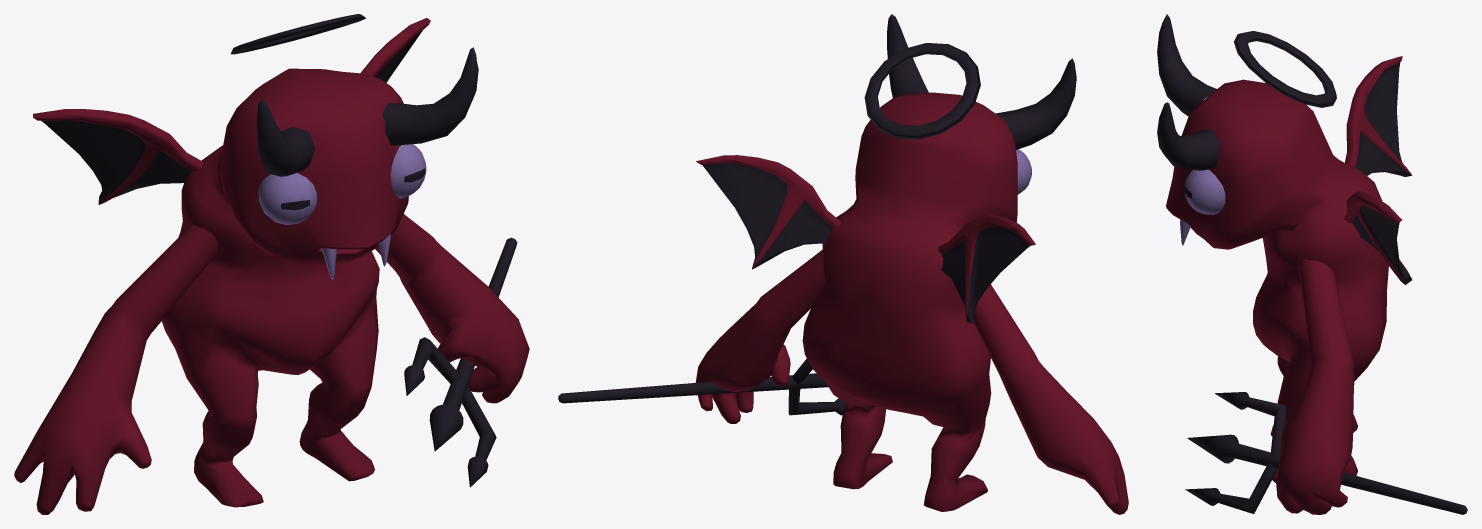
The model's file is enemy-kessin1.glb.
The picture shows the model from 3 angles, left to right: view 1: azimuth 30°, elevation 25°; view 2: azimuth 150°, elevation 25°; view 3: azimuth 270°, elevation 25°; orthographic projection. The views are drawn at different scales.
Parts seen in each view (by area): view 1: enemy:kessin1; view 2: enemy:kessin1; view 3: enemy:kessin1.
Part boxes in pixels (box(x1,y1,x2,y2)): enemy:kessin1: box(14, 14, 529, 514); enemy:kessin1: box(558, 14, 1128, 514); enemy:kessin1: box(1157, 14, 1467, 514).
Size of the model in its own units: 2.98 by 2.4 by 1.63.
1 material, 1 textured.
